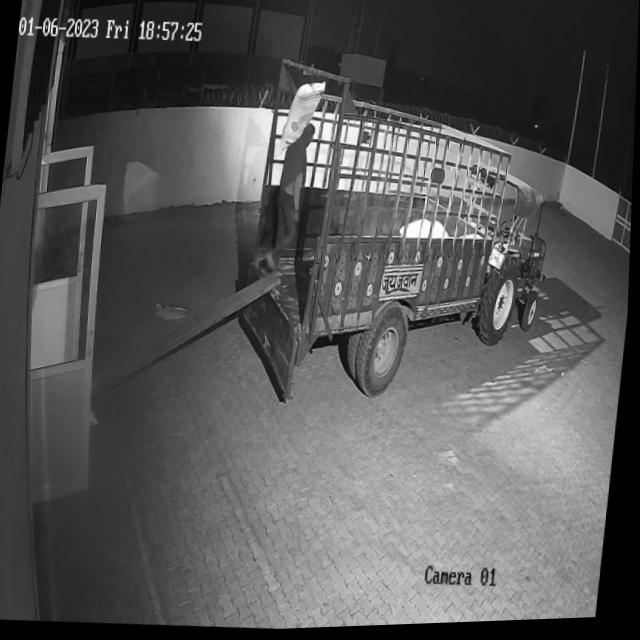sack: (278, 81, 326, 162)
